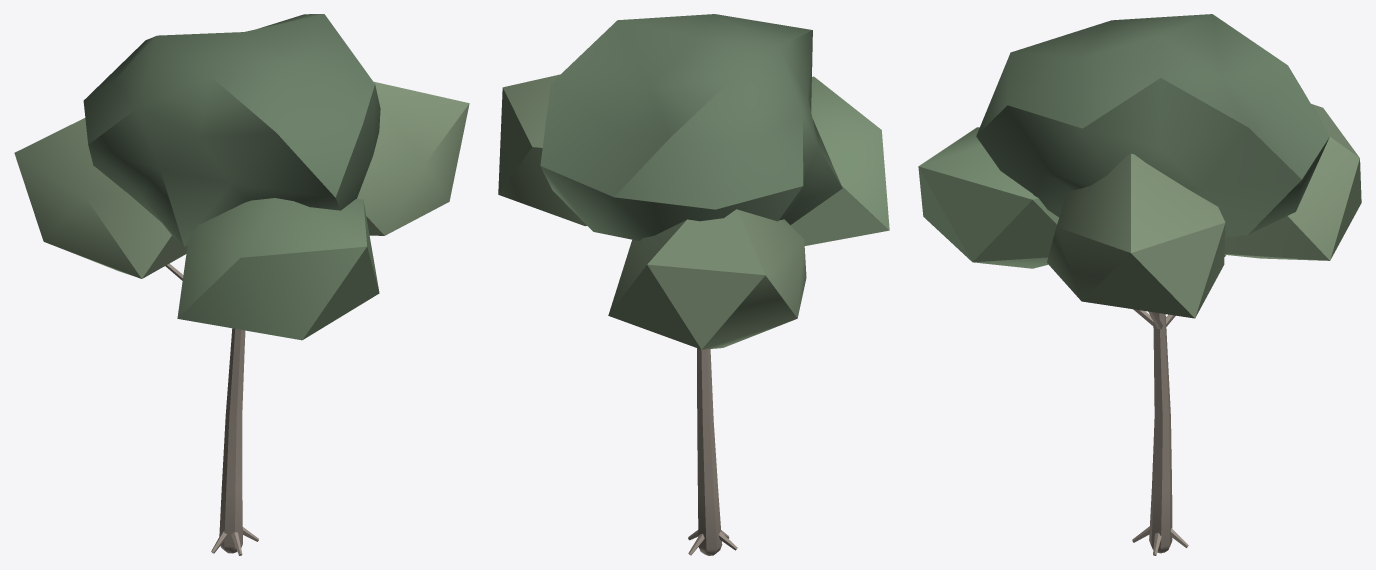
File: broadleaf_b.gltf
3 views of the same model, side by side, from view 1: azimuth 30°, elevation 25°; view 2: azimuth 150°, elevation 25°; view 3: azimuth 270°, elevation 25° (orthographic).
Parts seen in each view (by area): view 1: Body; view 2: Body; view 3: Body.
Boxes of the visible parts, x1,y1,x2,y2 form: Body: (14,14,469,555); Body: (498,14,889,555); Body: (918,14,1361,555).
Bounding box in the file's own units: 10.55 × 14.39 × 11.1.
